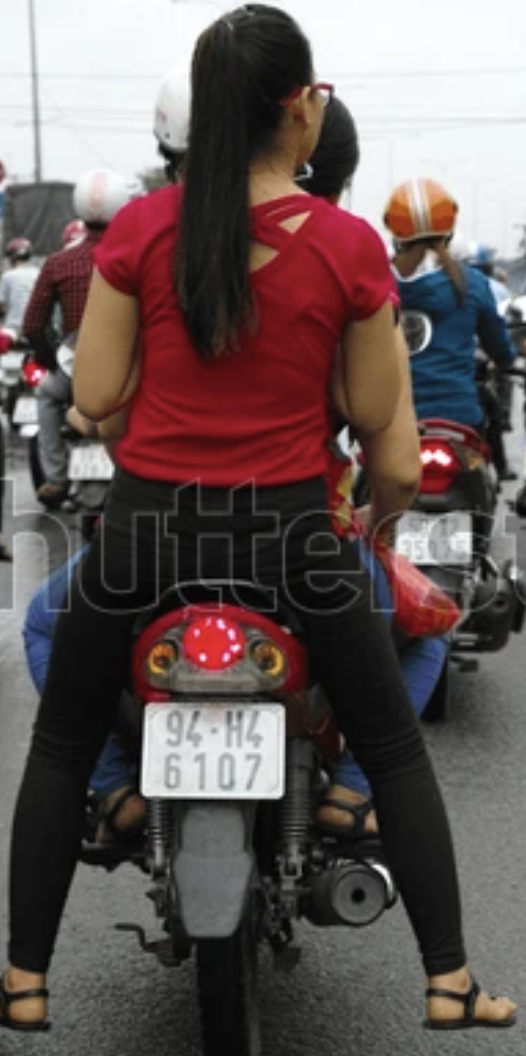motor: (50, 593, 384, 1043)
no helmet: (185, 16, 325, 166)
number: (144, 700, 287, 801)
